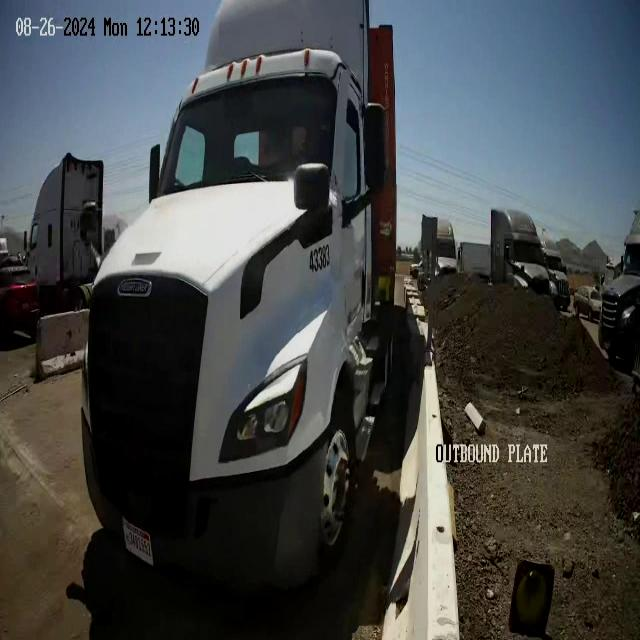TRUCK_CONTAINER: (79, 0, 398, 597)
